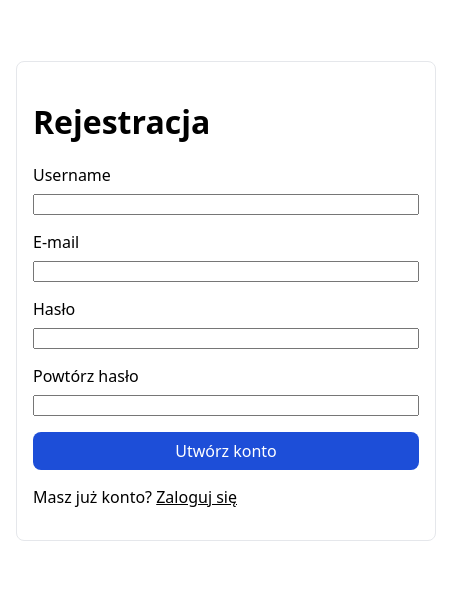
Test case: auth pages › validates registration fields before submission
Click the button "Utwórz konto".
click(226, 451)  # box [33, 432, 419, 470]
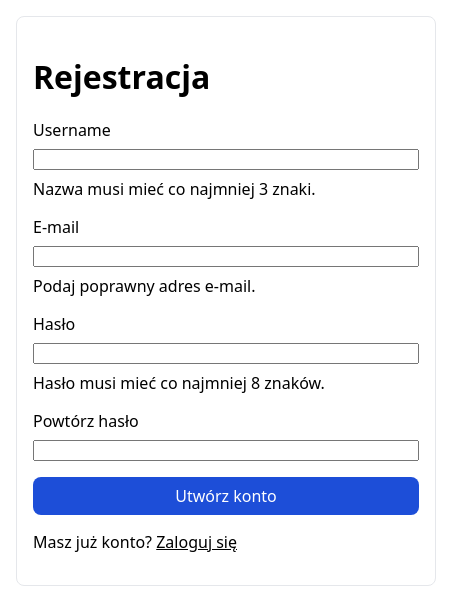
Result: the text "Nazwa musi mieć co najmniej 3 znaki." is shown at [33, 178, 316, 200]
Result: the text "Hasło musi mieć co najmniej 8 znaków." is shown at [33, 372, 325, 394]
